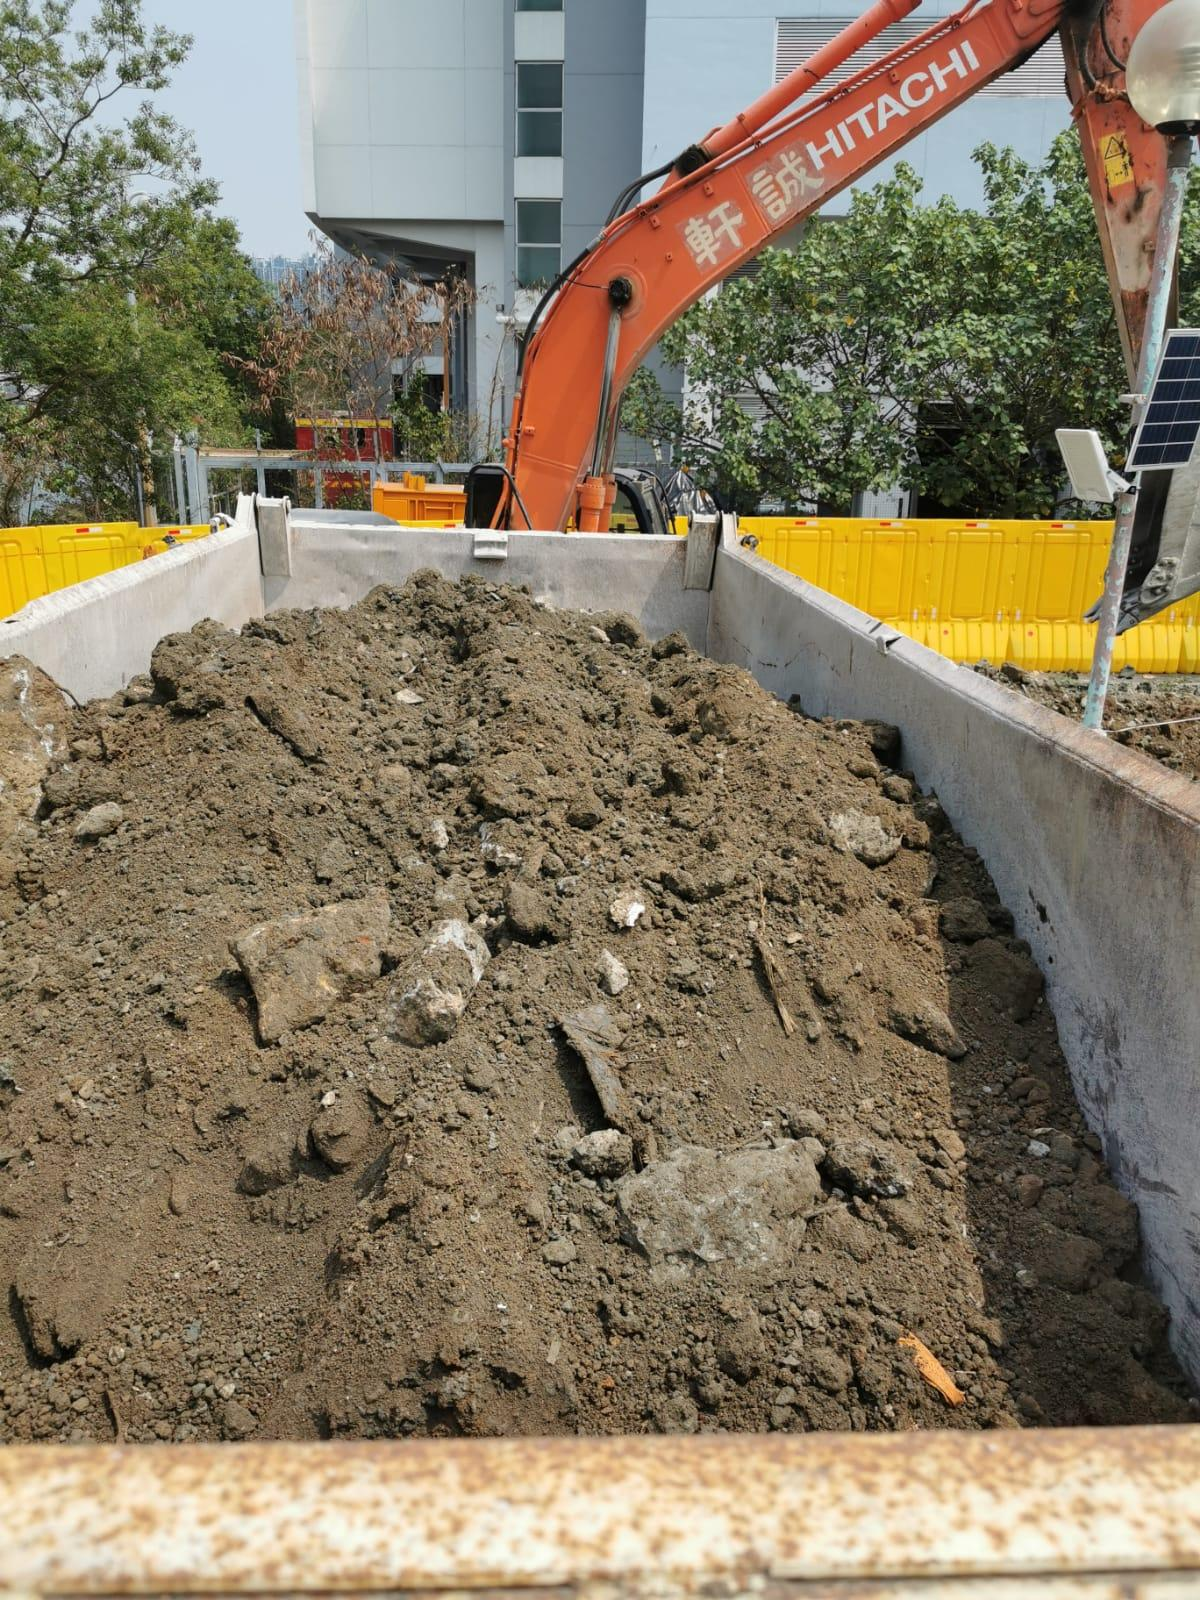dirt: (1, 564, 1192, 1441)
stone: (614, 1134, 826, 1285), (229, 893, 392, 1042), (379, 916, 490, 1044)
